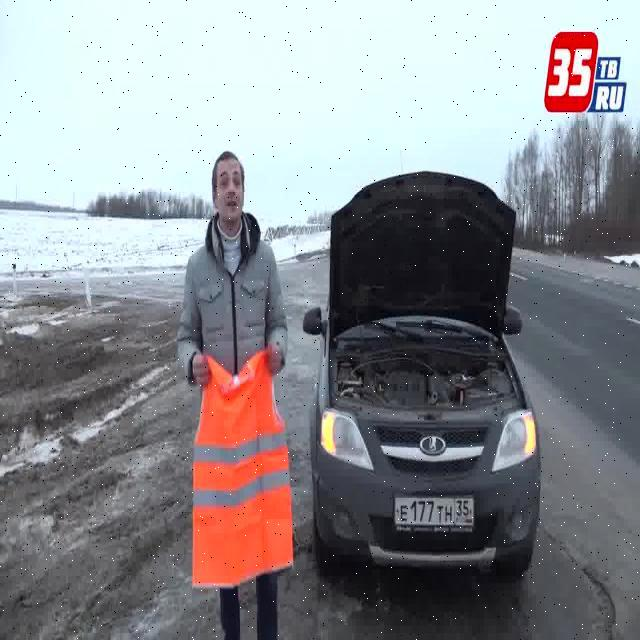Vest: (188, 353, 298, 587)
